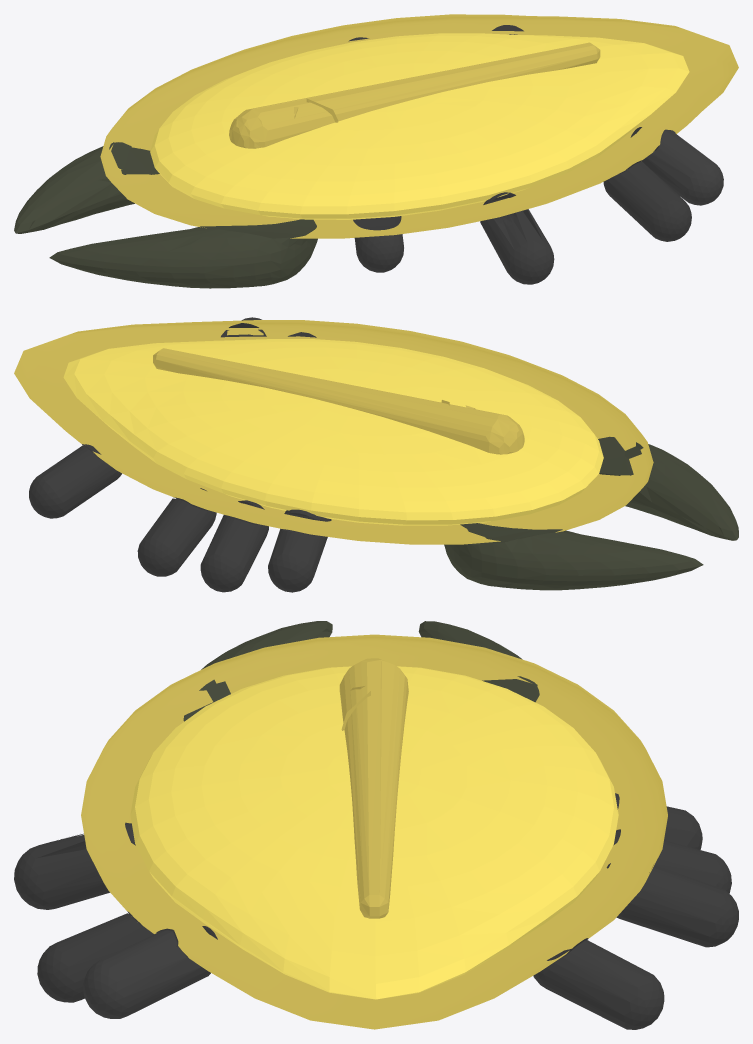
The model's file is goldenleafbug.glb.
The picture shows the model from 3 angles, top to bottom: view 1: azimuth 30°, elevation 25°; view 2: azimuth 150°, elevation 25°; view 3: azimuth 270°, elevation 25°; orthographic projection. The views are drawn at different scales.
Parts seen in each view (by area): view 1: Sphere, Sphere.008, Sphere.001, Sphere.009, Icosphere.008, Icosphere.009, Icosphere.007, Icosphere.010; view 2: Sphere, Sphere.009, Sphere.001, Sphere.008, Icosphere.006, Icosphere.004, Icosphere.003, Icosphere.011; view 3: Sphere, Sphere.001, Icosphere.006, Icosphere.007, Icosphere.004, Icosphere.009, Icosphere.008, Sphere.008, Icosphere.003, Sphere.009, Icosphere.011.
Part boxes in pixels (bbox=[...]): Sphere: bbox=[100, 14, 738, 238]; Sphere.008: bbox=[49, 219, 317, 288]; Sphere.001: bbox=[229, 42, 600, 148]; Sphere.009: bbox=[14, 142, 159, 233]; Icosphere.008: bbox=[603, 160, 691, 241]; Icosphere.009: bbox=[480, 209, 554, 284]; Icosphere.007: bbox=[641, 129, 723, 205]; Icosphere.010: bbox=[353, 216, 403, 272]; Sphere: bbox=[14, 320, 653, 544]; Sphere.009: bbox=[444, 523, 703, 590]; Sphere.001: bbox=[153, 348, 524, 454]; Sphere.008: bbox=[598, 436, 738, 540]; Icosphere.006: bbox=[29, 444, 121, 518]; Icosphere.004: bbox=[137, 497, 216, 576]; Icosphere.003: bbox=[200, 515, 268, 592]; Icosphere.011: bbox=[268, 528, 327, 592]; Sphere: bbox=[81, 634, 667, 1029]; Sphere.001: bbox=[339, 658, 408, 918]; Icosphere.006: bbox=[533, 938, 664, 1029]; Icosphere.007: bbox=[83, 928, 210, 1018]; Icosphere.004: bbox=[616, 865, 738, 947]; Icosphere.009: bbox=[14, 833, 109, 909]; Icosphere.008: bbox=[37, 911, 153, 1002]; Sphere.008: bbox=[183, 621, 332, 721]; Icosphere.003: bbox=[654, 840, 731, 893]; Sphere.009: bbox=[418, 621, 539, 702]; Icosphere.011: bbox=[664, 806, 702, 849].
Size of the model in its own units: 4.38 by 0.7174 by 3.02.
